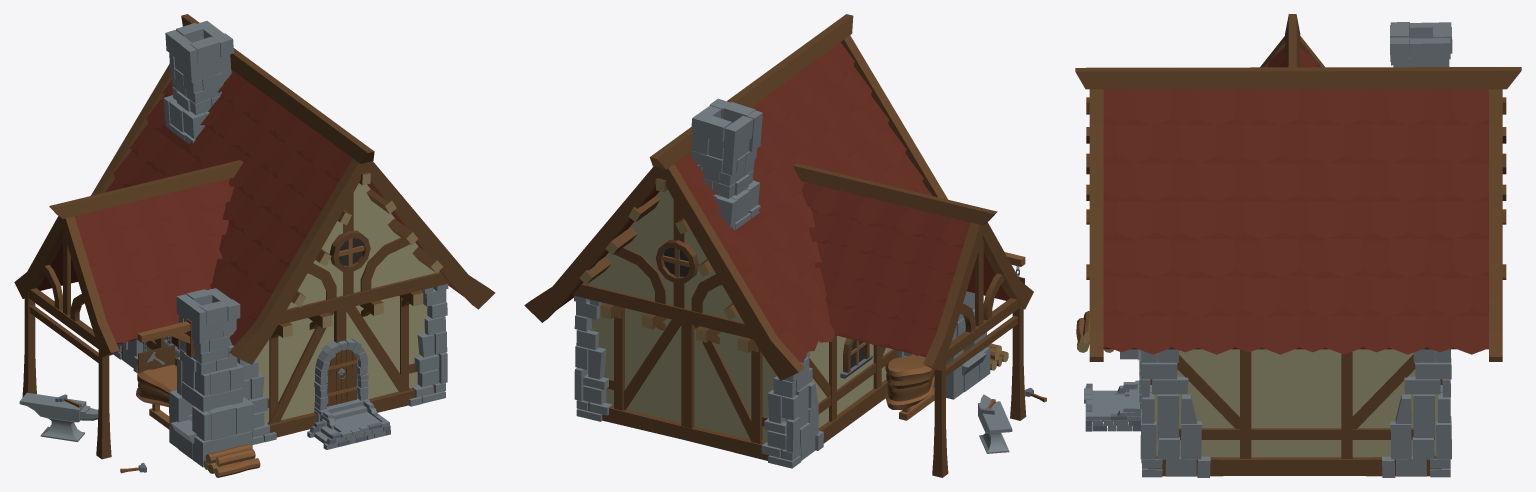
Rendered from Blacksmith.gltf.
The picture shows the model from 3 angles, left to right: view 1: azimuth 30°, elevation 25°; view 2: azimuth 150°, elevation 25°; view 3: azimuth 270°, elevation 25°; orthographic projection. The views are drawn at different scales.
Visible parts, largest first — view 1: Blacksmith_Cube.000; view 2: Blacksmith_Cube.000; view 3: Blacksmith_Cube.000.
Boxes of the visible parts, <box> form: Blacksmith_Cube.000: <box>14,14,495,477</box>; Blacksmith_Cube.000: <box>524,14,1046,477</box>; Blacksmith_Cube.000: <box>1075,14,1521,477</box>.
Size of the model in its own units: 3.89 by 3 by 3.28.
